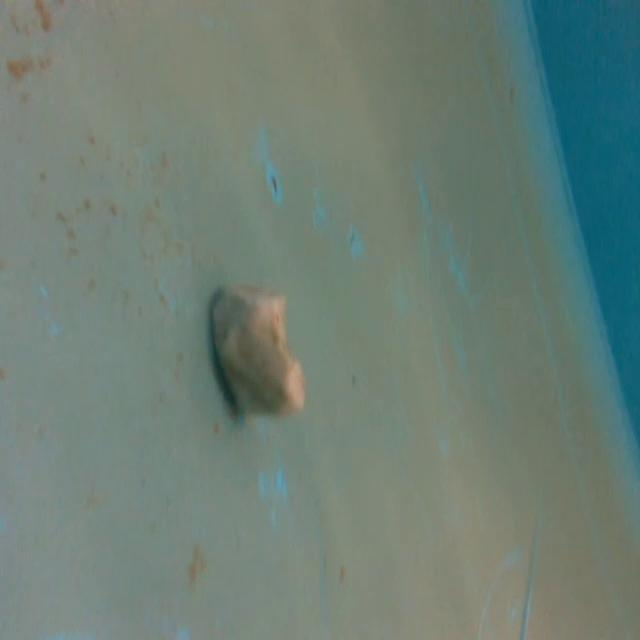rock: (205, 276, 311, 426)
